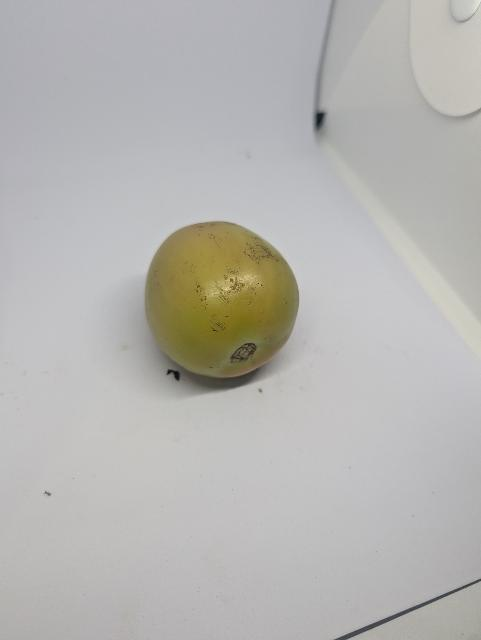breaker: (142, 216, 310, 393)
